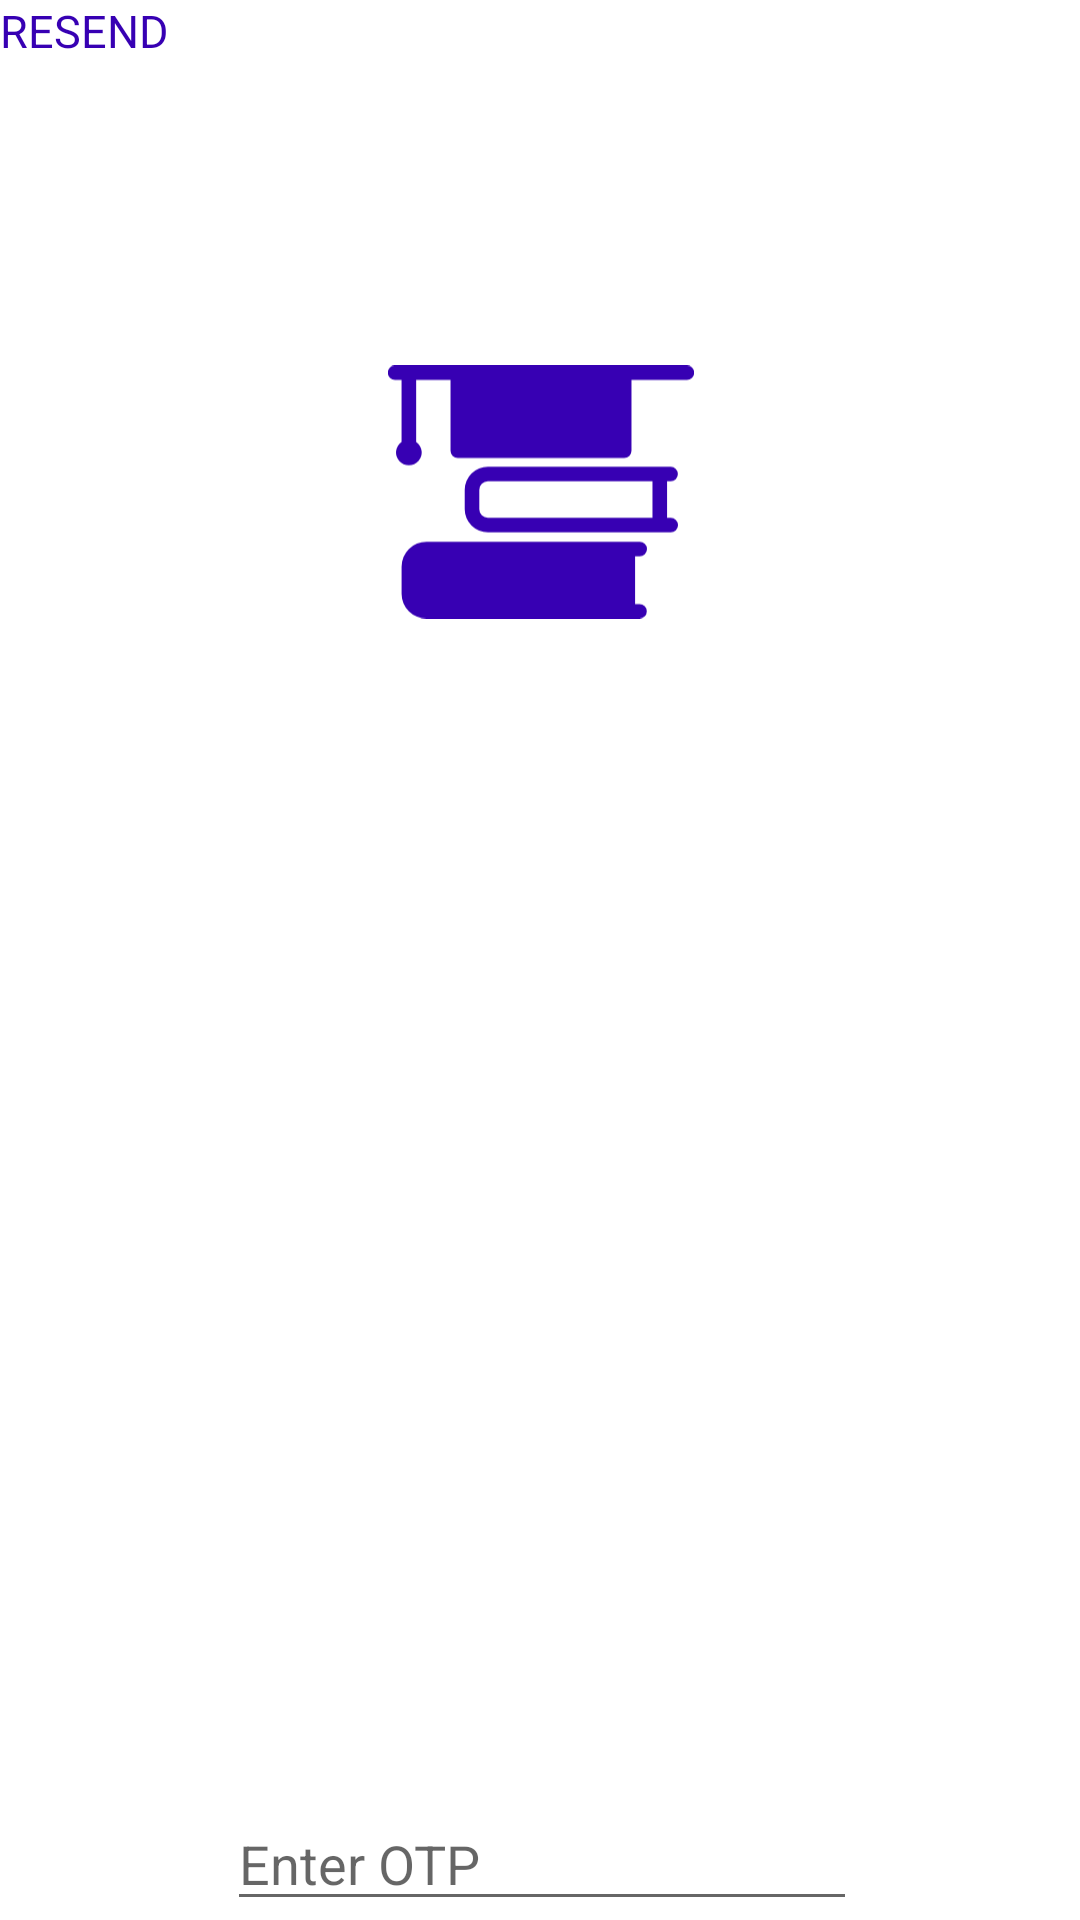

Icons on this 1080px×1920px Android screen, each with its box as (left=x1, top=y1, right=x2, bottom=y2):
college studying: (left=388, top=365, right=694, bottom=619)
